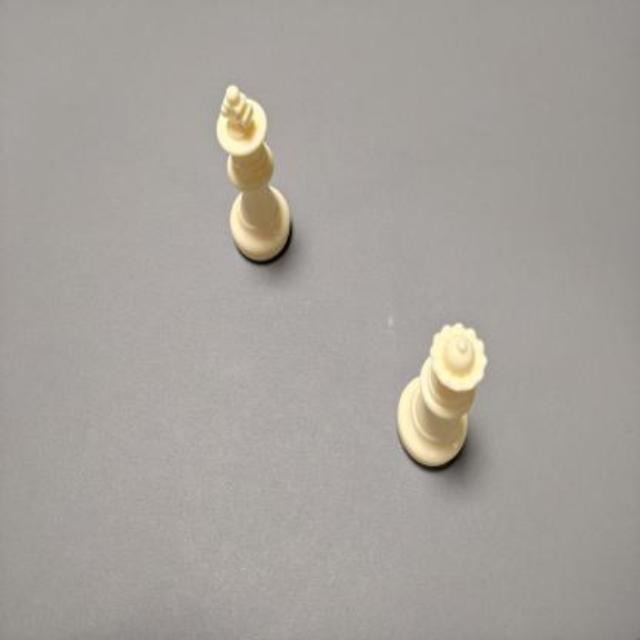white-king: (216, 85, 294, 265)
white-queen: (397, 323, 487, 467)
